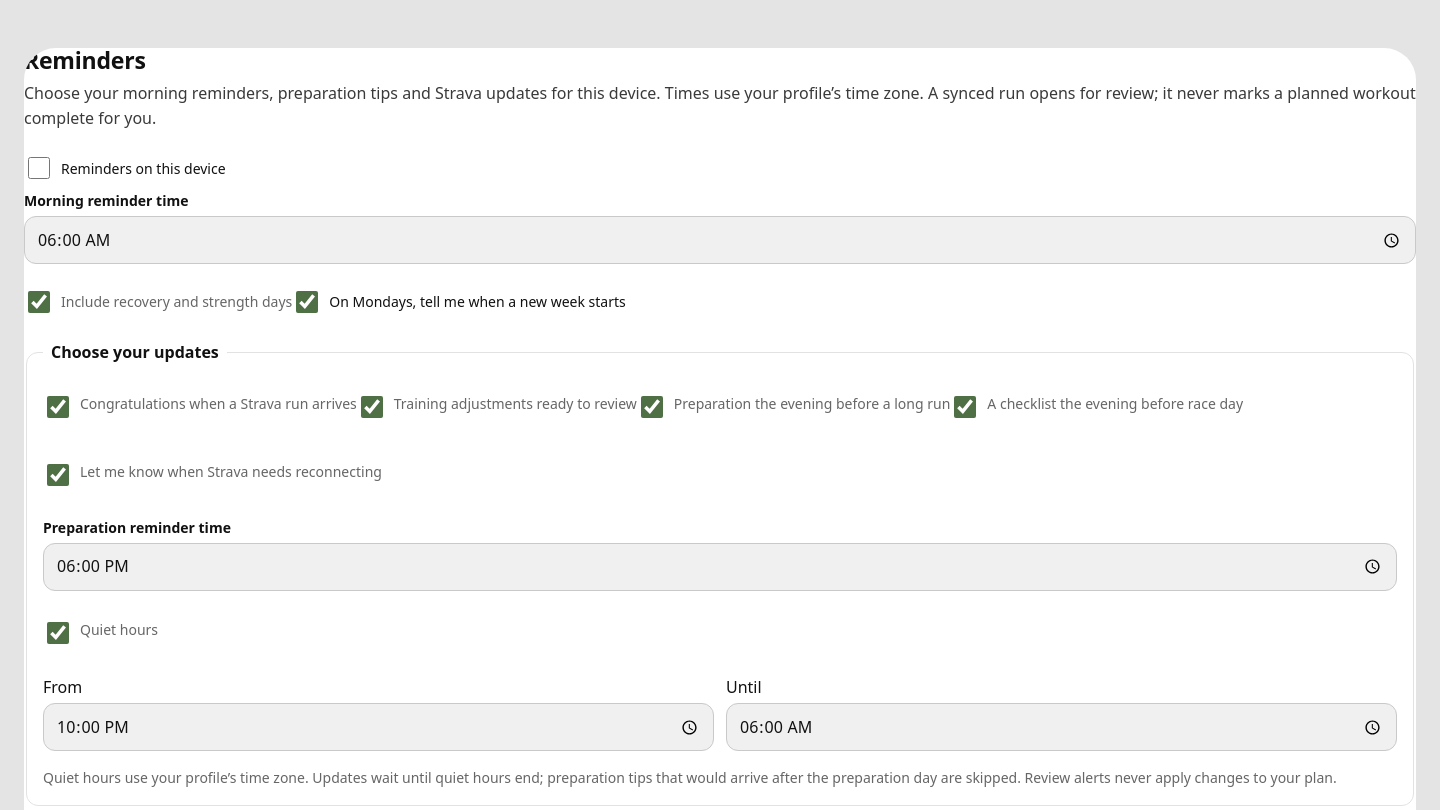
Test: reminders in Account › is off by default, and turning it on asks permission, subscribes and saves the time chosen
Check: the switch labelled "Reminders on this device" is not checked, box [28,158,50,180]
Check: the text "never marks a planned workout complete for you" is shown, box [24,82,1416,129]
Replace the text in the time field labelled "Morning reminder time" with "06:30". click: (720, 240)
box: [24,216,1416,264]
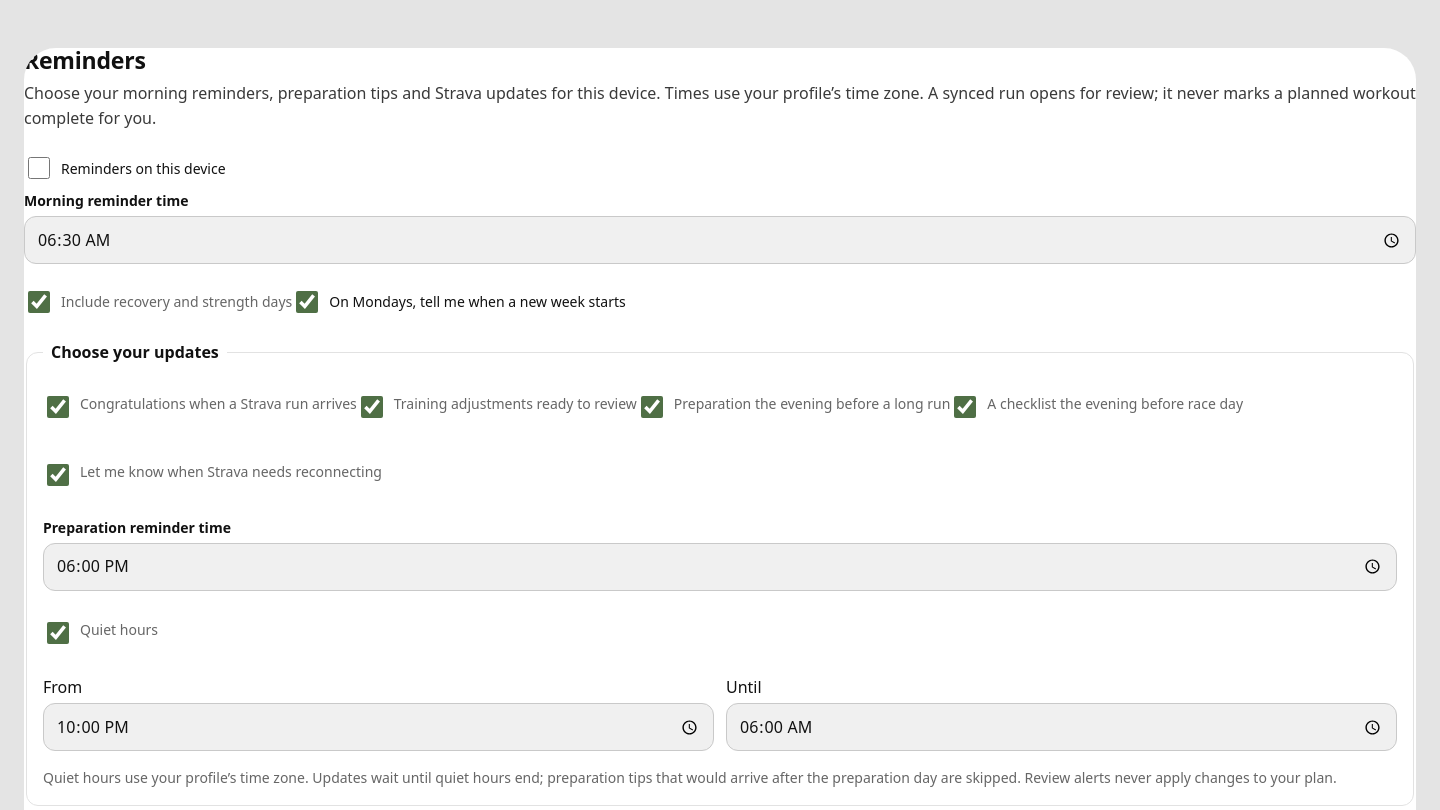
Click the switch labelled "Reminders on this device". click: (39, 168)
box: [28,158,50,180]
(page scrolled)
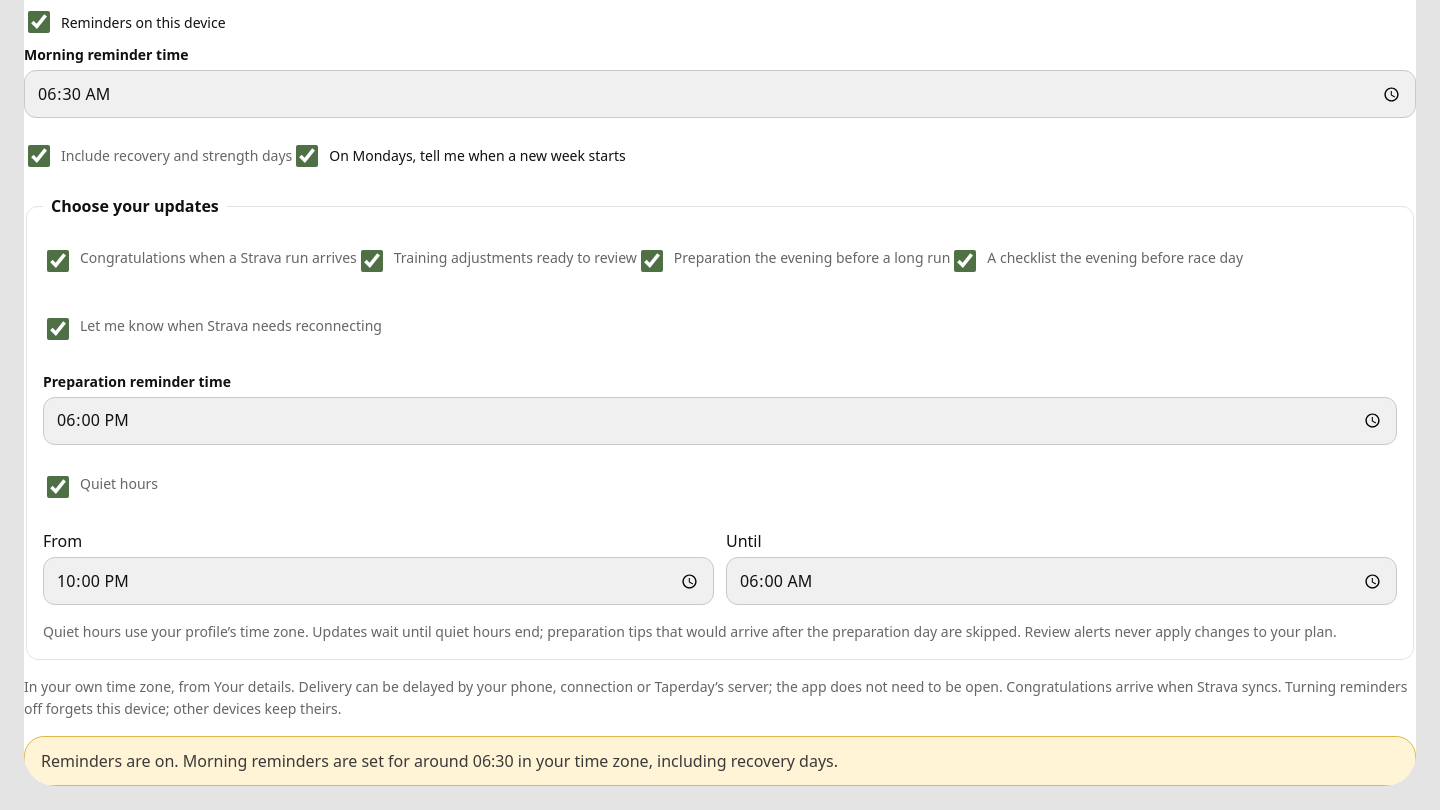
Check: the switch labelled "Reminders on this device" is checked, box [28,12,50,34]
Check: the message shows "Reminders are on. Morning reminders are set for around 06:30", box [41,750,838,772]
